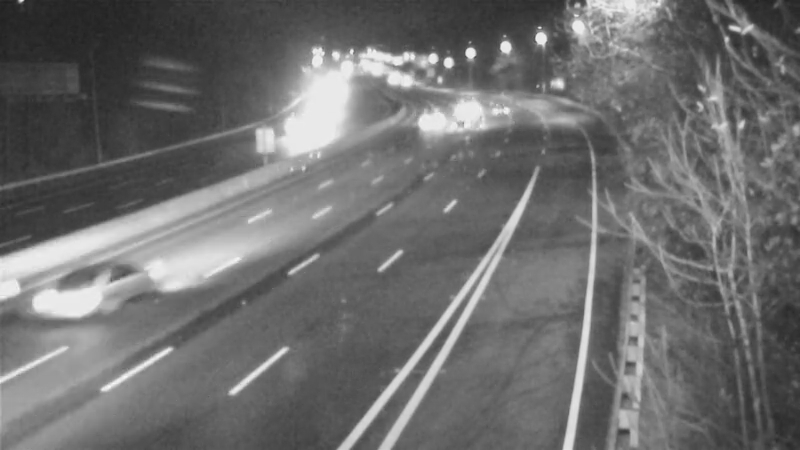vehicle: (43, 257, 123, 337), (444, 81, 494, 131), (474, 80, 524, 130), (409, 95, 459, 145), (436, 103, 486, 153)
